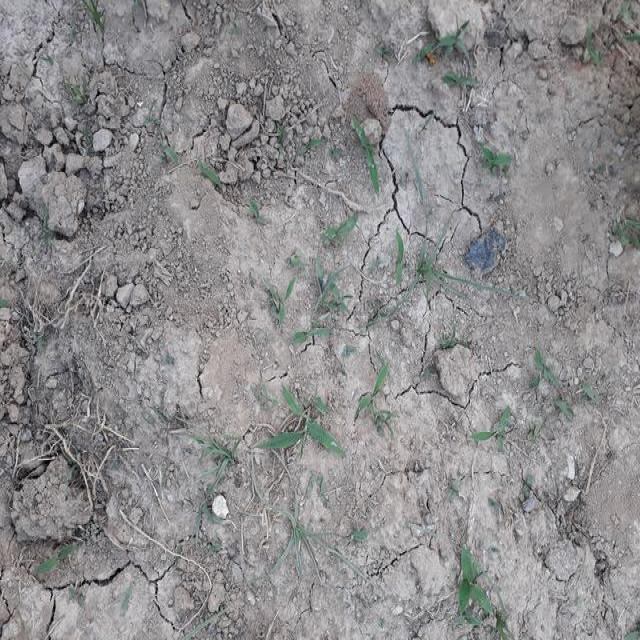weed: (270, 403, 326, 478), (349, 123, 377, 208), (307, 286, 346, 346), (251, 289, 291, 338), (451, 523, 474, 604), (358, 371, 381, 444), (469, 408, 515, 438), (434, 25, 464, 64), (466, 152, 504, 180), (389, 243, 400, 304)
